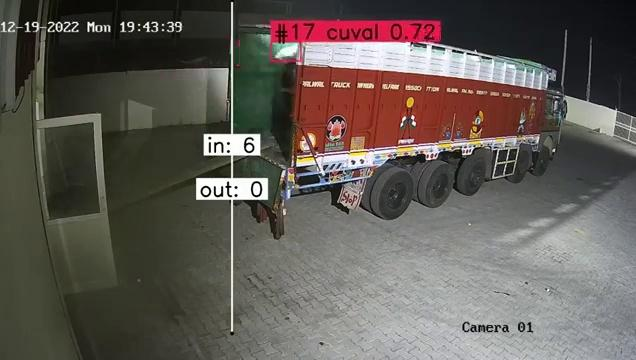karung: (273, 43, 299, 59)
